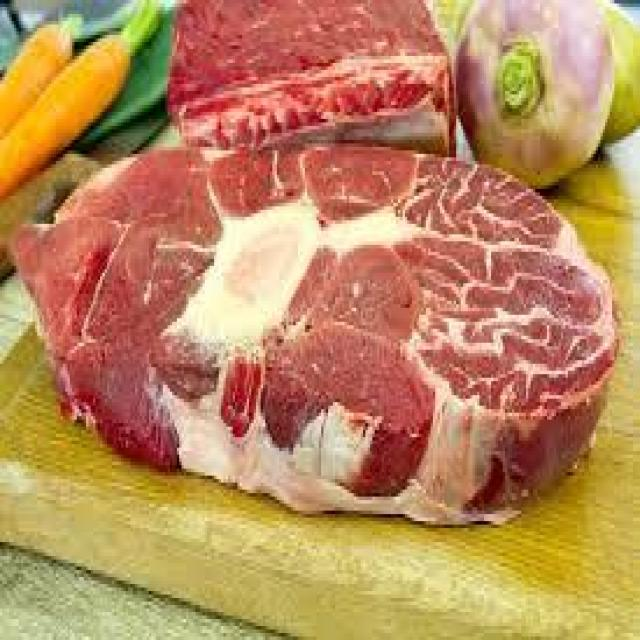Beef: (44, 158, 628, 546)
